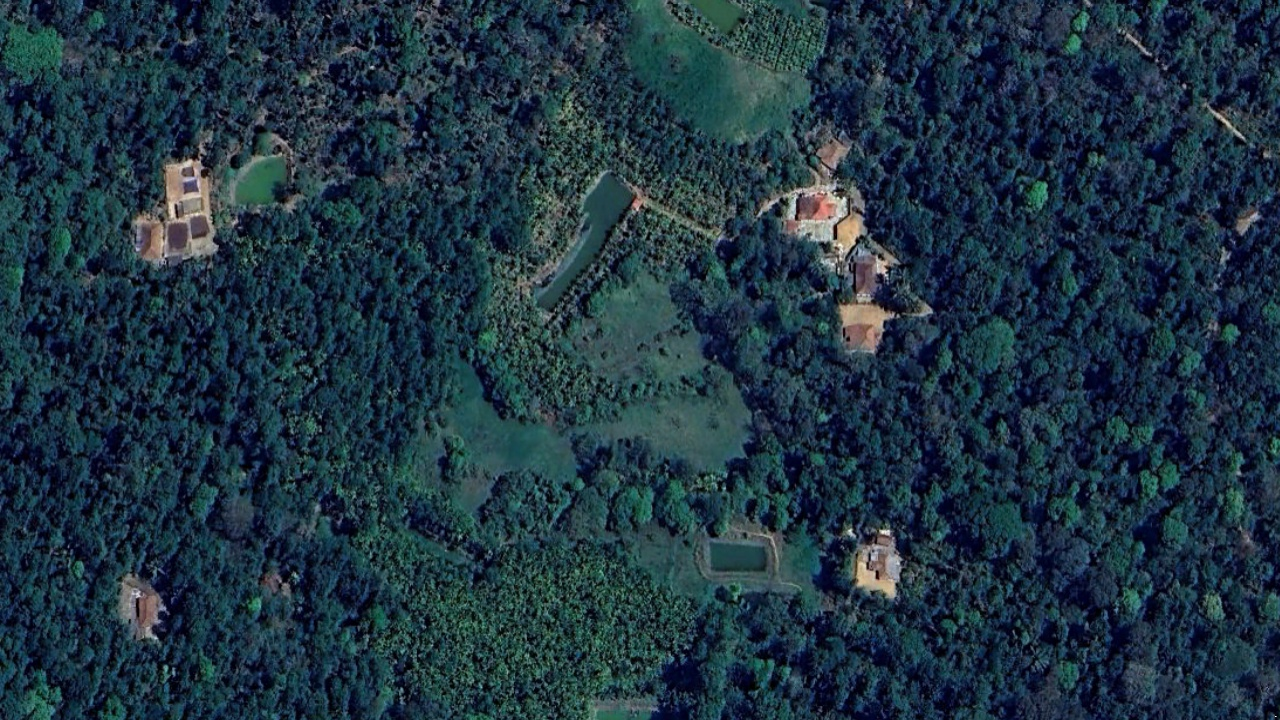arecanut: (363, 528, 698, 714)
